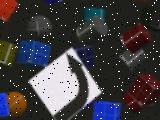Left: (28, 47, 102, 120)
